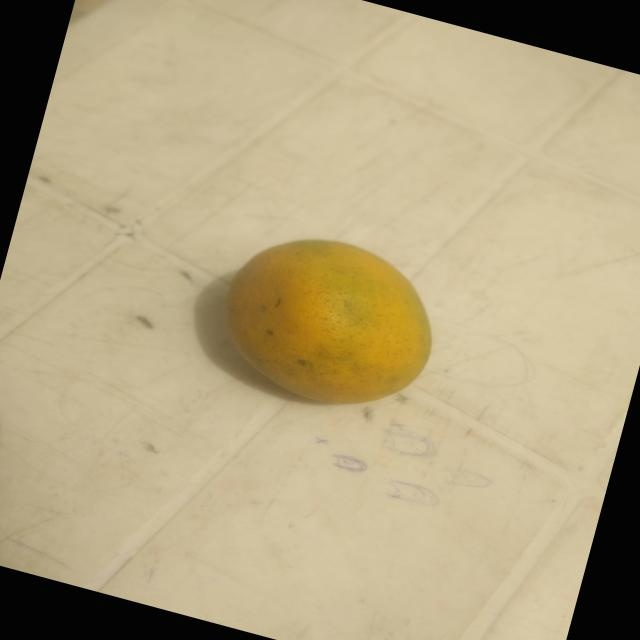agrume: (174, 202, 476, 455)
